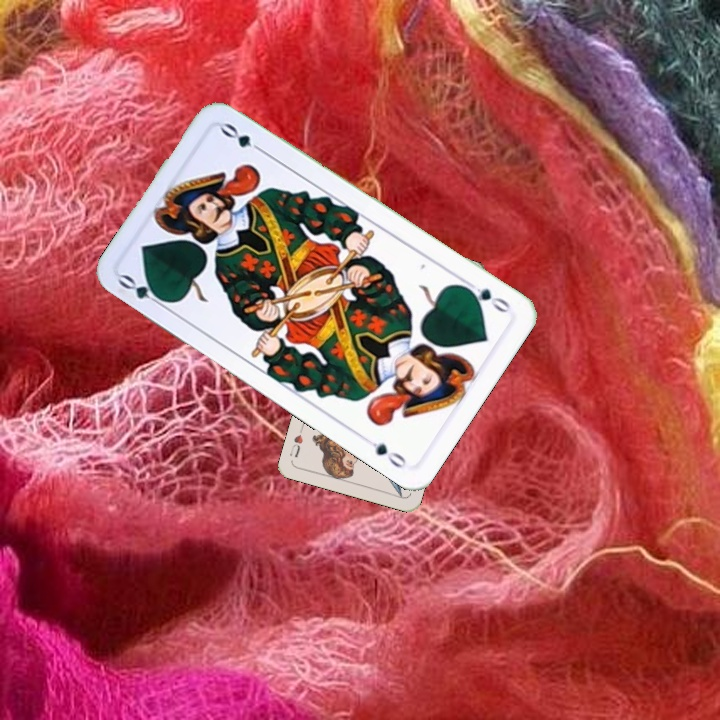GO: (114, 270, 171, 311), (459, 276, 513, 317)
